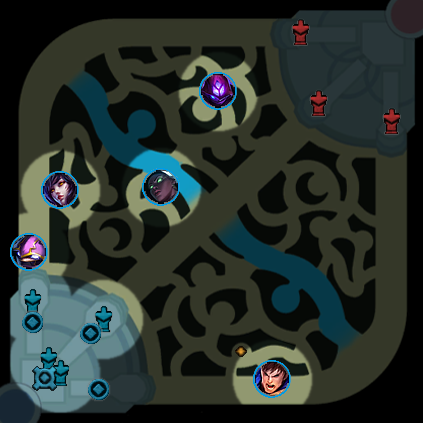Ahri: (41, 171, 79, 209)
Garen: (253, 360, 291, 398)
Kennen: (10, 233, 48, 271)
Malzahar: (199, 72, 237, 110)
Senna: (142, 168, 180, 206)
